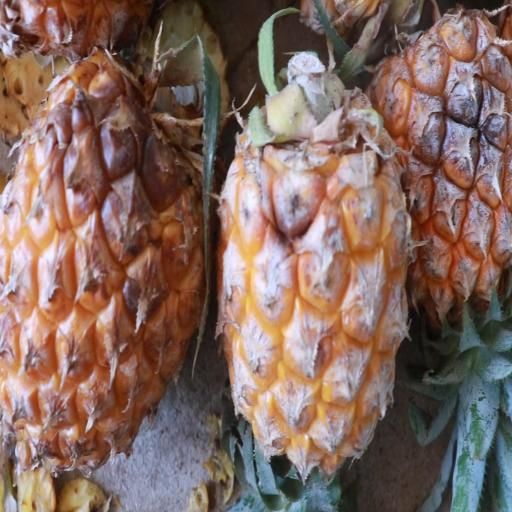Pineapple - v8 v1: (0, 56, 210, 512), (216, 78, 418, 512), (360, 0, 509, 385)
